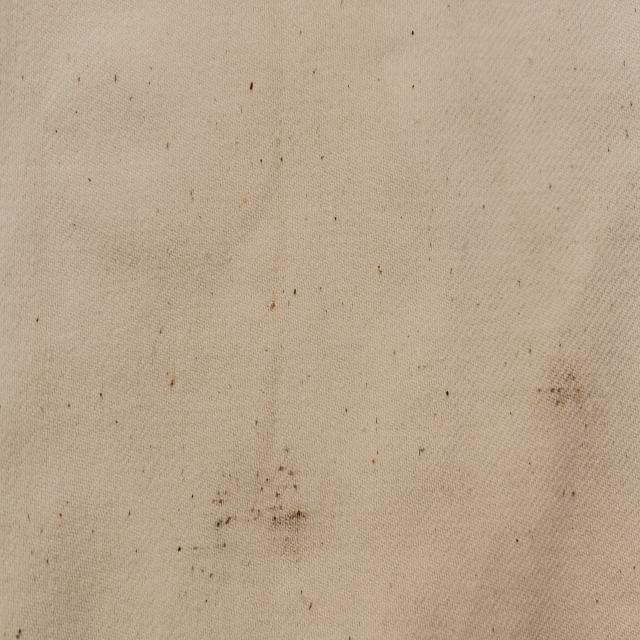taaaches: (188, 436, 314, 590), (538, 343, 588, 438)
